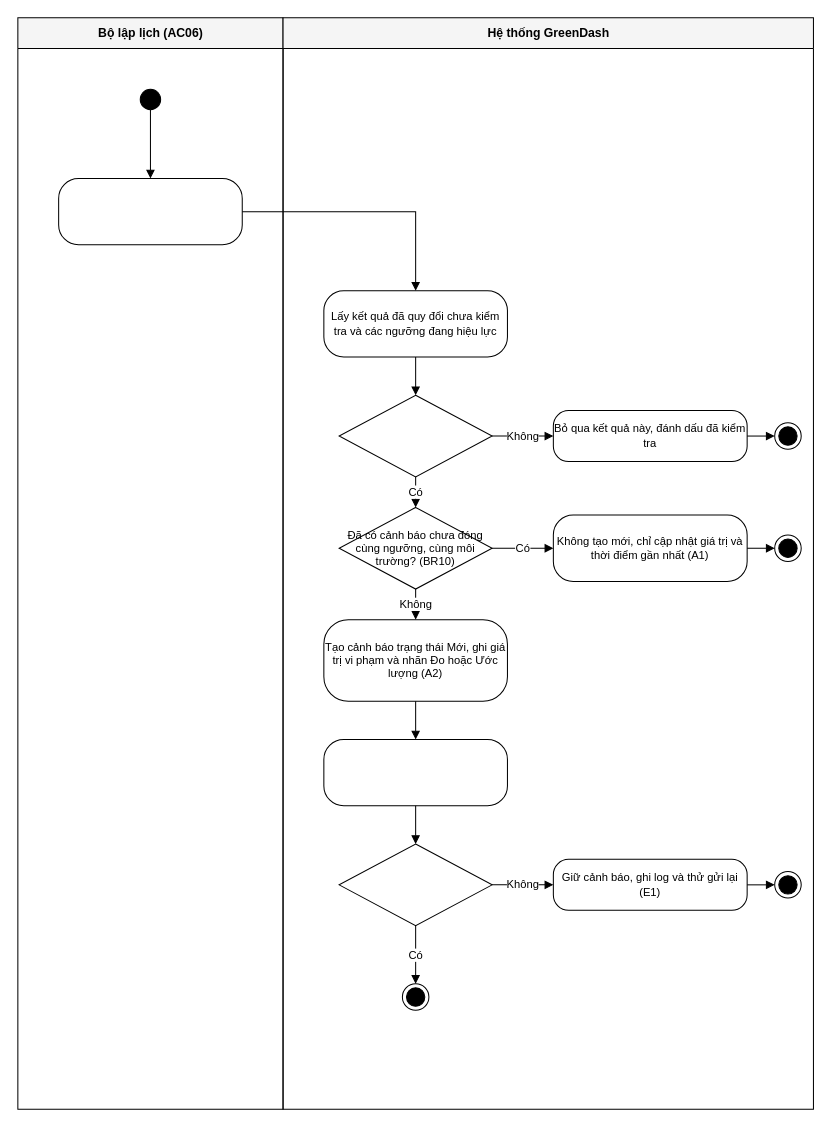
The diagram is 831 pixels wide and 1127 high, and some of its shapes have lost their labels. Here are the shapes that lost their labels. From the top down, the centre of each, then its label:
the point at 150,211: Kích hoạt kiểm tra ngưỡng (sau UC_GD_011 hoặc theo lịch)
the point at 415,435: Kết quả vượt ngưỡng?
the point at 415,772: Gửi thông báo (email hoặc trong ứng dụng) cho DevOps phụ trách
the point at 415,884: Gửi thành công?
